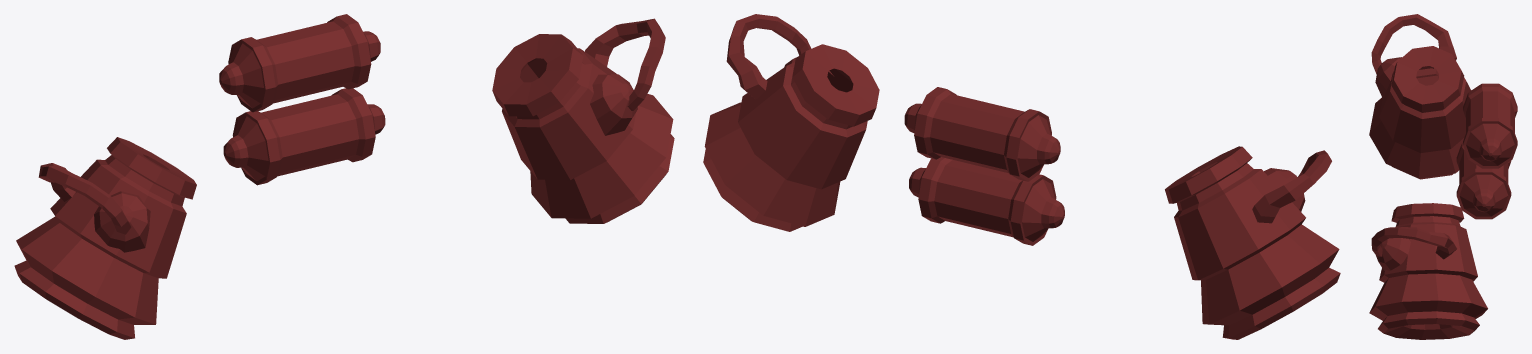
Rendered from Character_Sizzle_Weapon_001.fbx.
3 renders of one model, left to right at view 1: azimuth 30°, elevation 25°; view 2: azimuth 150°, elevation 25°; view 3: azimuth 270°, elevation 25°, orthographic. The views are drawn at different scales.
Visible parts, largest first — view 1: Tank_Sizzle2; view 2: Tank_Sizzle2; view 3: Tank_Sizzle2.
Boxes of the visible parts, x1,y1,x2,y2 form: Tank_Sizzle2: [14, 14, 674, 339]; Tank_Sizzle2: [703, 14, 1340, 339]; Tank_Sizzle2: [1369, 14, 1517, 339].
Bounding box in the file's own units: 125 × 39.78 × 34.5.
